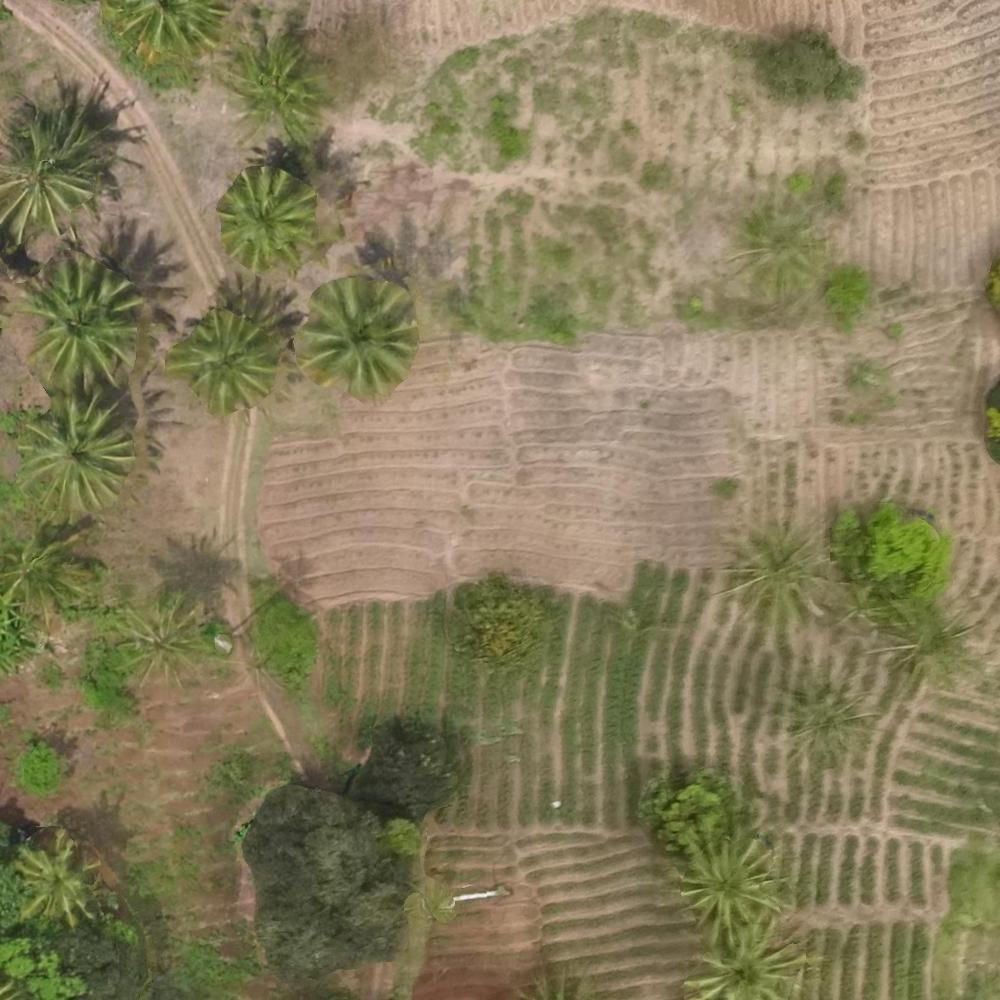Palm: (22, 260, 134, 385), (304, 281, 412, 400), (1, 113, 103, 233), (20, 402, 128, 510), (225, 36, 324, 144), (687, 919, 810, 998), (222, 169, 318, 267), (179, 313, 277, 409), (677, 840, 777, 928), (115, 599, 208, 683), (15, 840, 95, 923), (790, 680, 866, 761)
